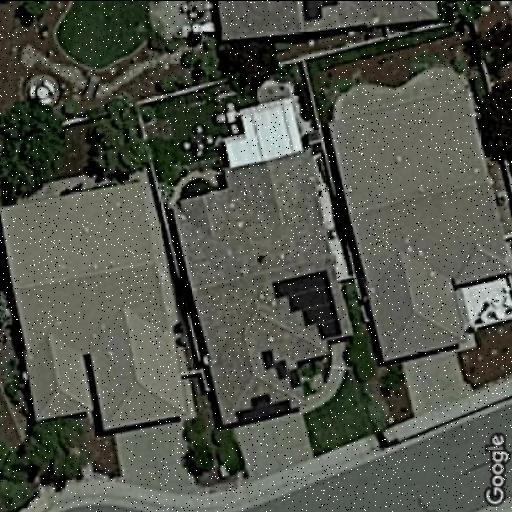solar-panel: (270, 268, 344, 342), (232, 392, 294, 424), (259, 348, 303, 390), (296, 2, 344, 26)
